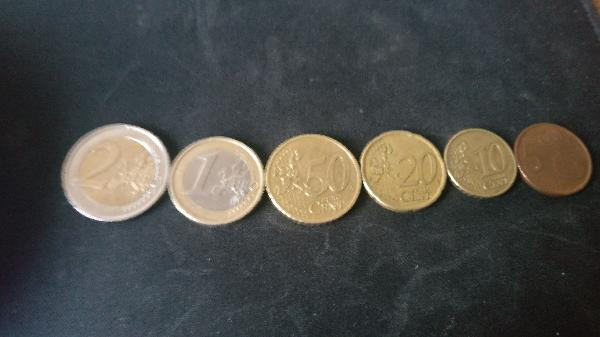Fifty Cent: (264, 123, 360, 233)
Five Cent: (514, 122, 590, 197)
One Euro: (168, 135, 264, 223)
Ten Cent: (443, 127, 519, 204)
Twenty Cent: (360, 126, 445, 212)
Two Euro: (57, 123, 172, 229)
